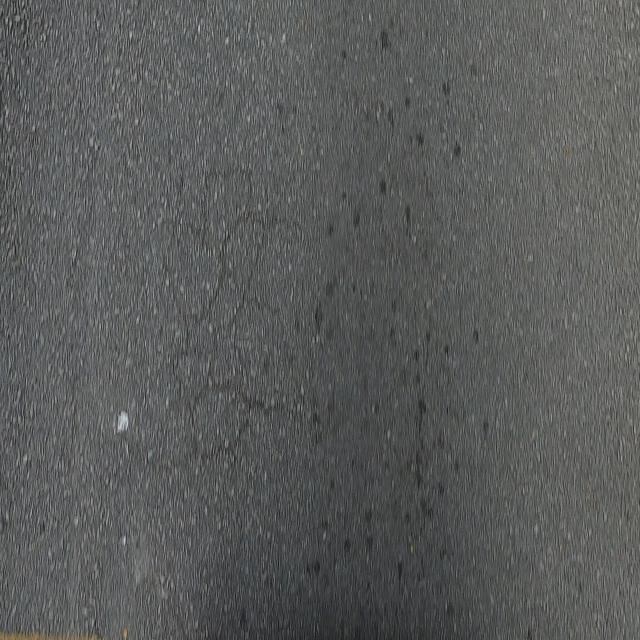Retak-Buaya: (130, 157, 303, 475)
